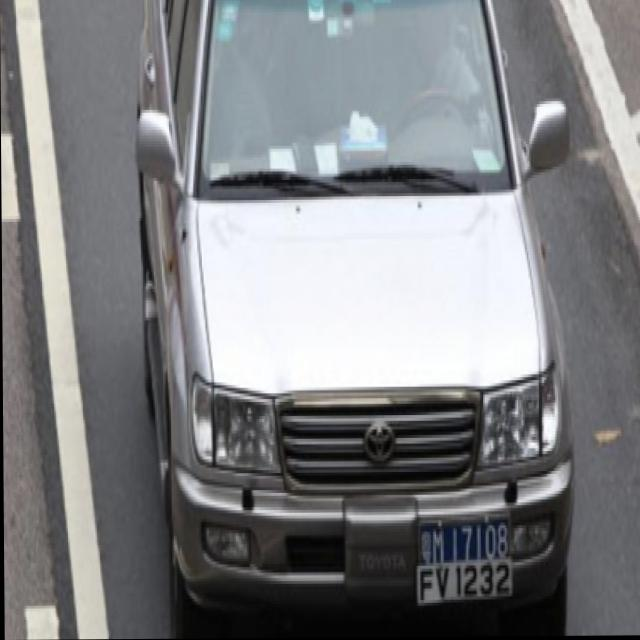licence: (417, 518, 512, 595)
